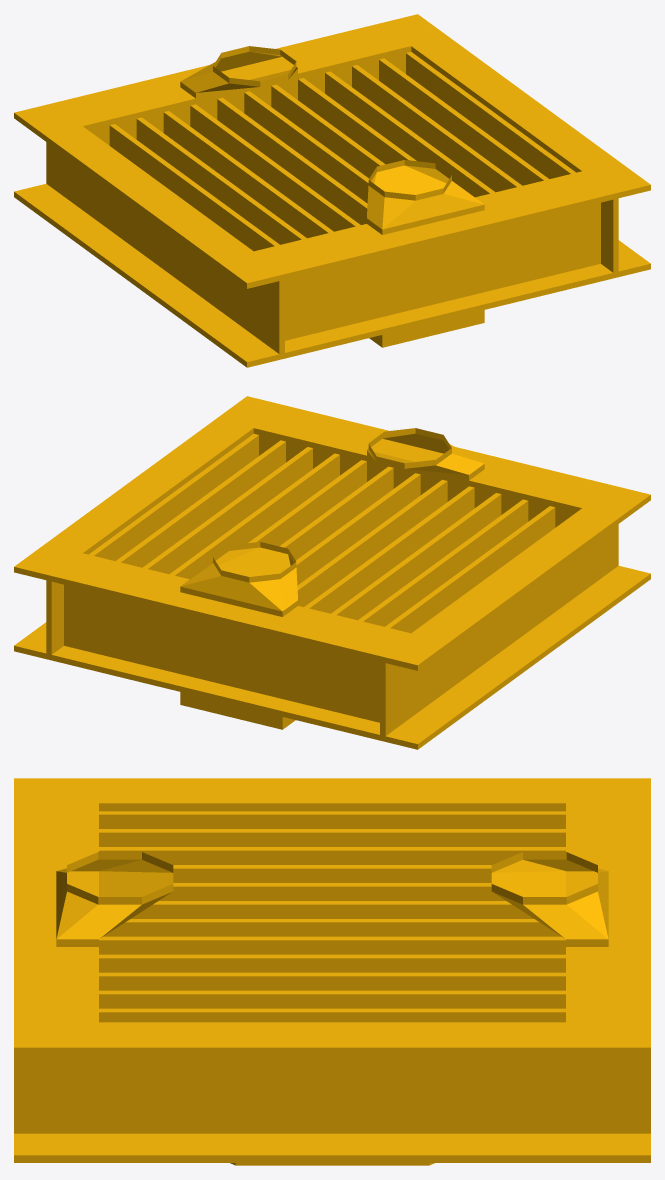
The model's file is fluid_radiator_electric_3x3x1.dae.
3 renders of one model, top to bottom at view 1: azimuth 30°, elevation 25°; view 2: azimuth 150°, elevation 25°; view 3: azimuth 270°, elevation 25°, orthographic. The views are drawn at different scales.
Visible parts, largest first — view 1: Cube; view 2: Cube; view 3: Cube.
Boxes of the visible parts, x1,y1,x2,y2 form: Cube: [14, 14, 650, 367]; Cube: [14, 396, 650, 749]; Cube: [14, 778, 650, 1165].
Bounding box in the file's own units: 0.75 × 0.75 × 0.25.
